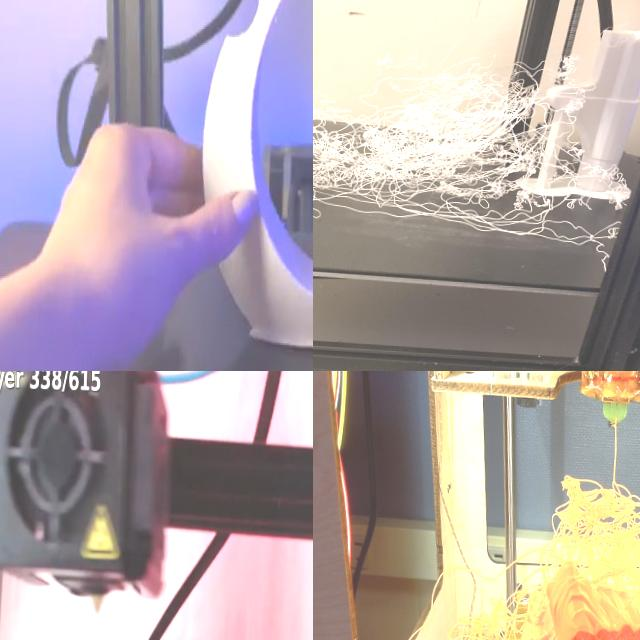spaghetti: (313, 35, 630, 270), (364, 470, 640, 640)
